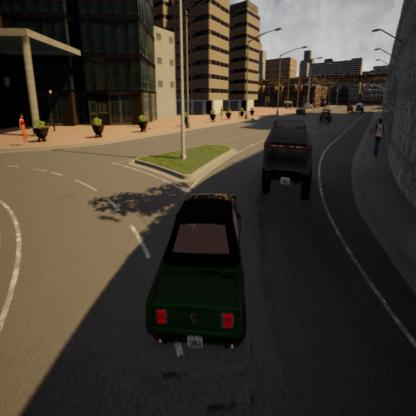Cars: (146, 194, 246, 354), (263, 120, 315, 197), (321, 106, 332, 126), (357, 102, 366, 114), (346, 101, 353, 111)
Pedestrian: (372, 115, 385, 155), (18, 114, 29, 151)
